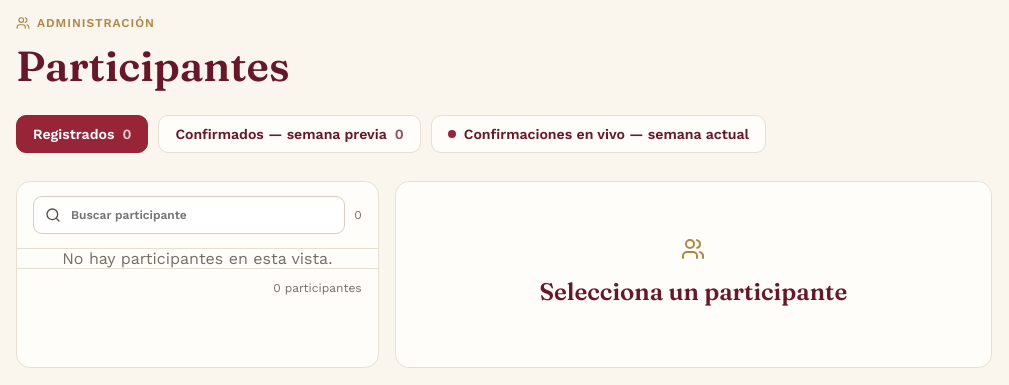
Test: ParticipantsPanel · modo remoto (admin autenticado) › pestaña 'en vivo' fuera de ventana muestra el aviso y no la lista
Click the button "Confirmaciones en vivo — semana actual": point(598, 134) [431,115,766,153]
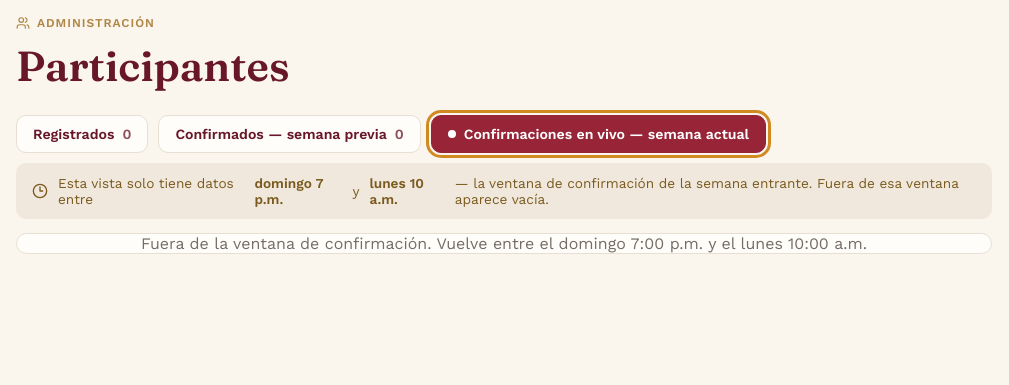
Now the text "Fuera de la ventana de confirmación" is shown, box [141,234,867,253]
